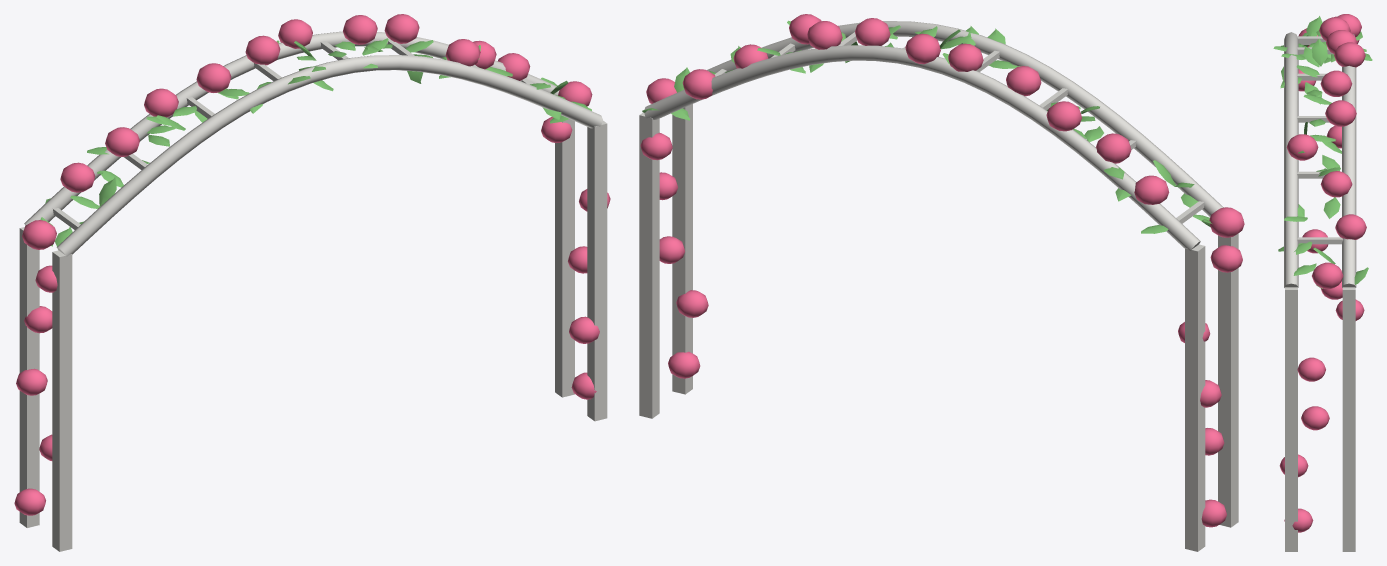
Rendered from rosenbogen.glb.
The picture shows the model from 3 angles, left to right: view 1: azimuth 30°, elevation 25°; view 2: azimuth 150°, elevation 25°; view 3: azimuth 270°, elevation 25°; orthographic projection. The views are drawn at different scales.
Parts seen in each view (by area): view 1: rosenbogen_lod0; view 2: rosenbogen_lod0; view 3: rosenbogen_lod0.
Boxes of the visible parts, x1,y1,x2,y2 form: rosenbogen_lod0: (14,14,610,551); rosenbogen_lod0: (639,14,1244,551); rosenbogen_lod0: (1273,14,1372,551).
Size of what is drawn, in the model's own units: 20.69 by 14.84 by 3.43.
